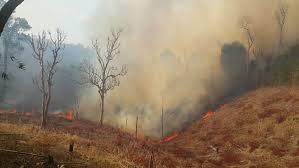yanwu: (71, 1, 297, 128)
